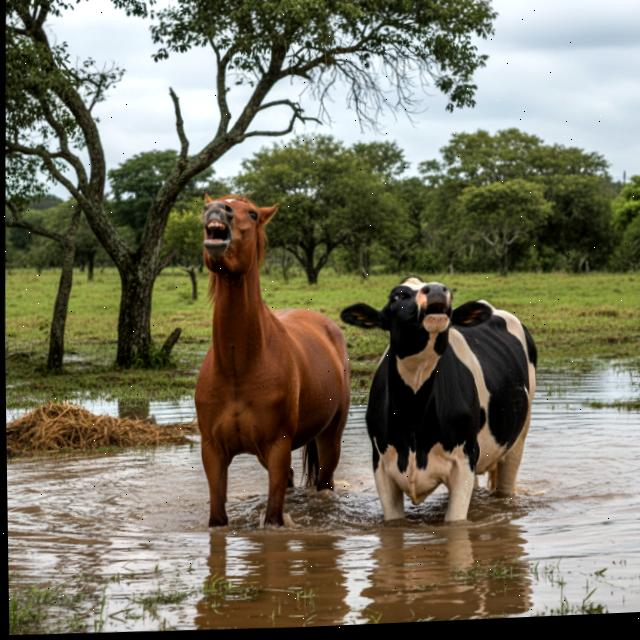cow: (328, 262, 551, 543)
horse: (176, 179, 359, 552)
